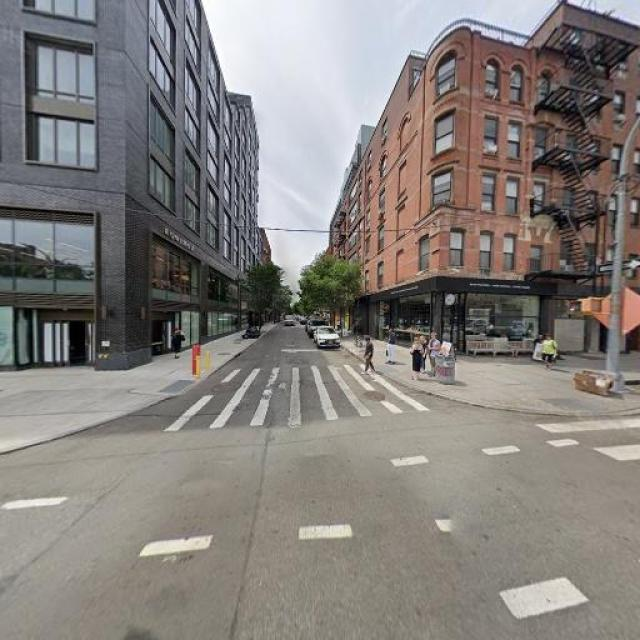Building: (1, 1, 248, 369), (367, 19, 529, 357)
